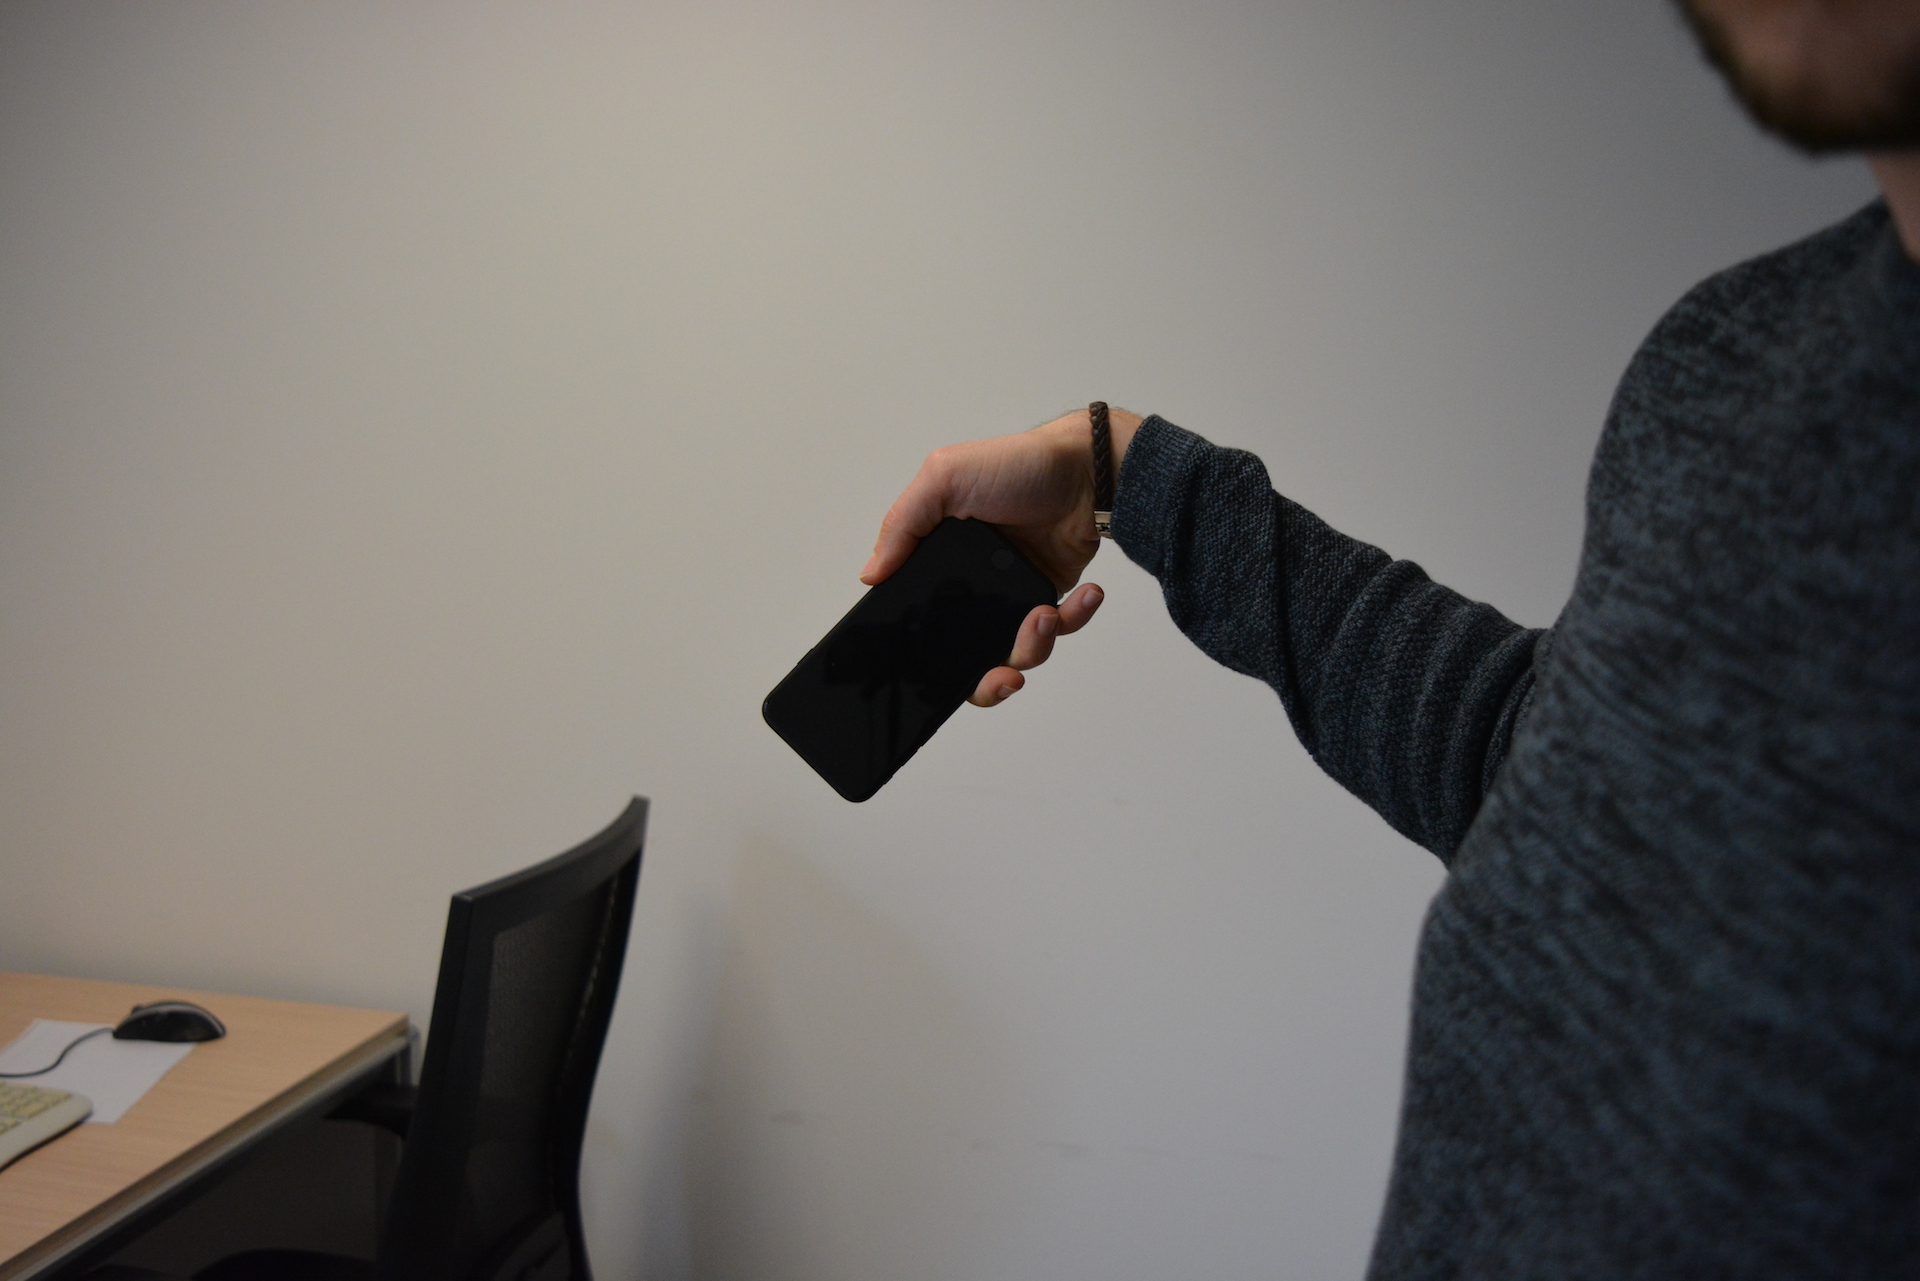smartphone: (761, 509, 1059, 805)
